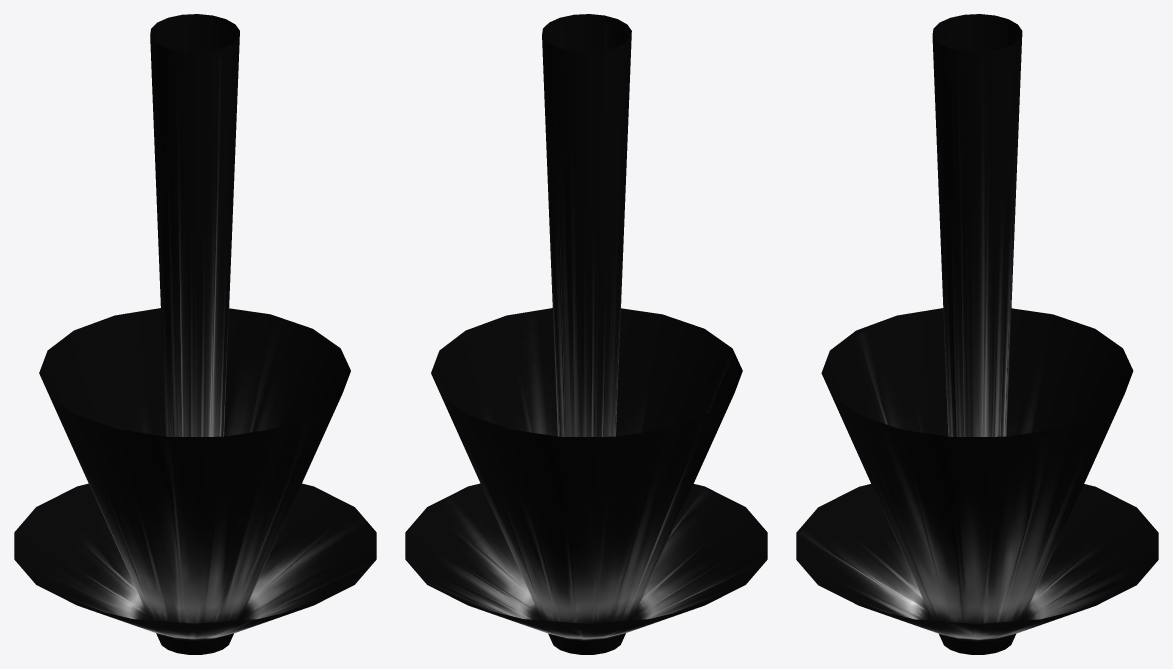
The model's file is shengji01.FBX.
3 renders of one model, left to right at view 1: azimuth 30°, elevation 25°; view 2: azimuth 150°, elevation 25°; view 3: azimuth 270°, elevation 25°, orthographic.
Visible parts, largest first — view 1: Cylinder001; view 2: Cylinder001; view 3: Cylinder001.
Part boxes in pixels (x1,y1,x2,y2): Cylinder001: (14, 14, 376, 654); Cylinder001: (405, 14, 767, 654); Cylinder001: (796, 14, 1158, 654).
Size of the model in its own units: 801 by 1457 by 788.
